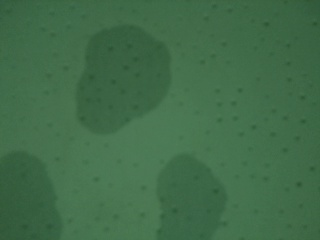Water_detected: (77, 33, 170, 126), (0, 158, 59, 240), (156, 163, 211, 236)
